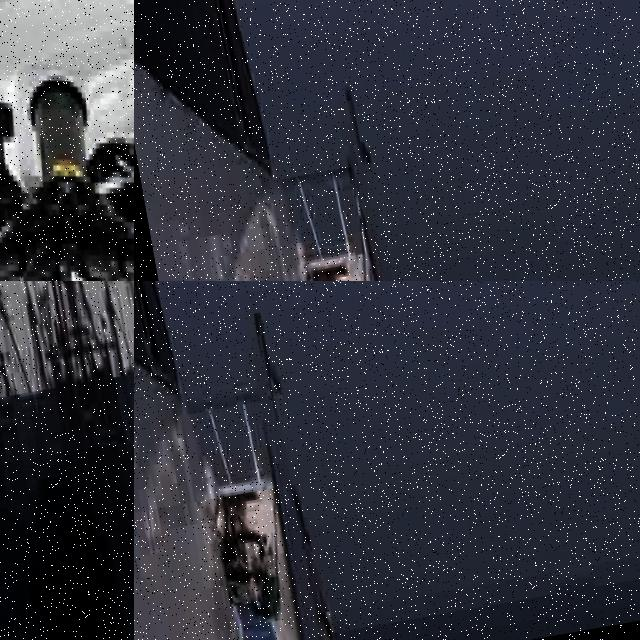drone: (0, 0, 134, 281)
